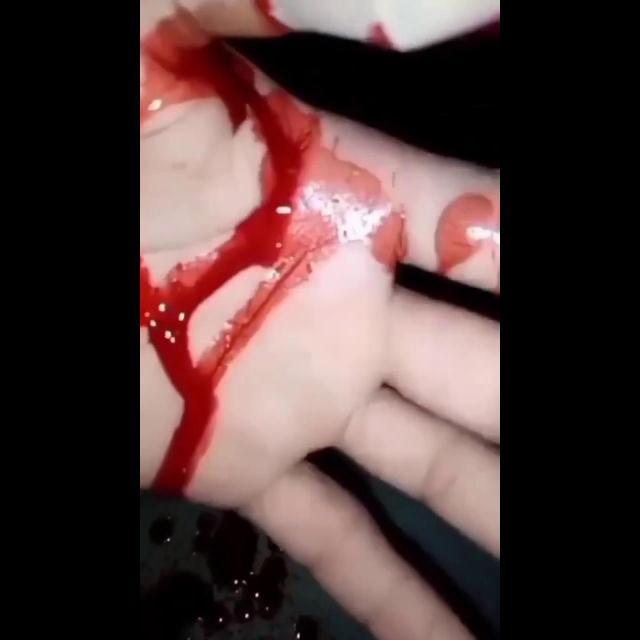blood: (140, 6, 407, 496), (436, 193, 494, 272), (366, 21, 394, 47)
